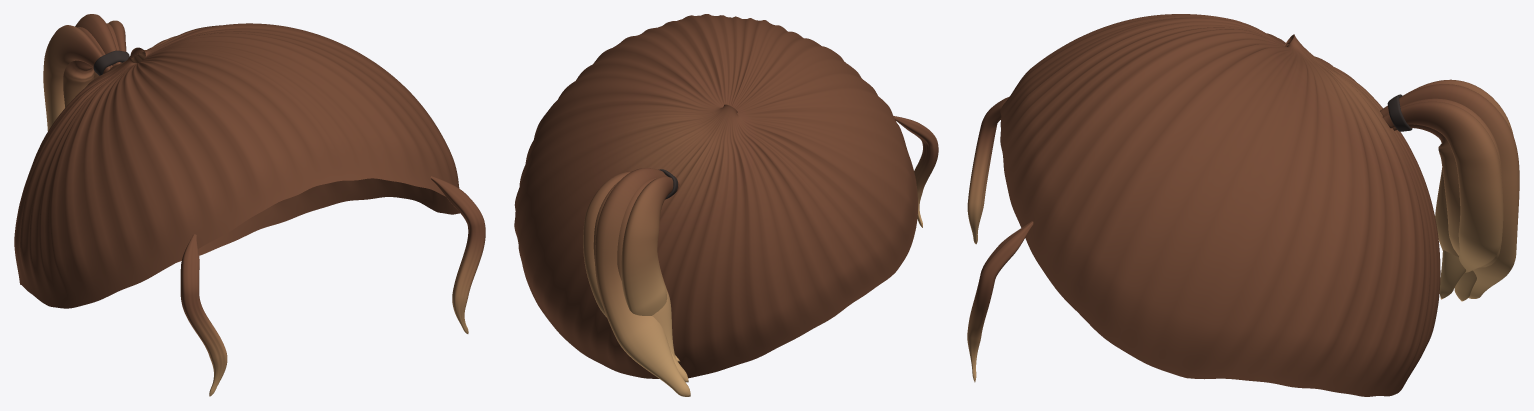
The model's file is ponytail-headband-ombre.glb.
3 renders of one model, left to right at view 1: azimuth 30°, elevation 25°; view 2: azimuth 150°, elevation 25°; view 3: azimuth 270°, elevation 25°, orthographic. The views are drawn at different scales.
Visible parts, largest first — view 1: Hair / swept roots220, Hair / rounded tail220 0, Hair / adjustable front216 -1, Hair / adjustable front216 1, Hair / rounded tail220 1, Hair / rounded tail220 2, Hair / tie220; view 2: Hair / swept roots220, Hair / rounded tail220 2, Hair / rounded tail220 0, Hair / rounded tail220 4, Hair / adjustable front216 -1, Hair / rounded tail220 1; view 3: Hair / swept roots220, Hair / rounded tail220 4, Hair / rounded tail220 2, Hair / adjustable front216 1, Hair / rounded tail220 3, Hair / adjustable front216 -1, Hair / rounded tail220 0, Hair / rounded tail220 1, Hair / tie220.
Boxes of the visible parts, <box> form: Hair / swept roots220: <box>14,23,459,308</box>; Hair / rounded tail220 0: <box>43,25,110,130</box>; Hair / adjustable front216 -1: <box>180,234,227,396</box>; Hair / adjustable front216 1: <box>430,176,485,333</box>; Hair / rounded tail220 1: <box>63,27,112,107</box>; Hair / rounded tail220 2: <box>75,14,120,78</box>; Hair / tie220: <box>93,50,129,75</box>; Hair / swept roots220: <box>514,14,917,378</box>; Hair / rounded tail220 2: <box>595,168,690,396</box>; Hair / rounded tail220 0: <box>621,176,679,315</box>; Hair / rounded tail220 4: <box>583,171,680,361</box>; Hair / adjustable front216 -1: <box>893,116,938,227</box>; Hair / rounded tail220 1: <box>617,177,675,357</box>; Hair / swept roots220: <box>1000,14,1440,396</box>; Hair / rounded tail220 4: <box>1383,101,1503,272</box>; Hair / rounded tail220 2: <box>1380,84,1519,298</box>; Hair / adjustable front216 1: <box>967,221,1033,382</box>; Hair / rounded tail220 3: <box>1382,98,1502,267</box>; Hair / adjustable front216 -1: <box>967,96,1009,244</box>; Hair / rounded tail220 0: <box>1402,79,1513,299</box>; Hair / rounded tail220 1: <box>1435,168,1476,301</box>; Hair / tie220: <box>1387,94,1412,131</box>.
Bounding box in the file's own units: 0.7726 × 0.5798 × 0.86.
9 materials, 8 textured.
